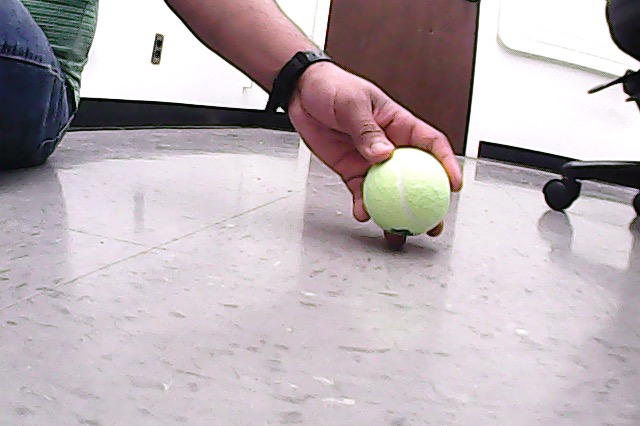ball: (360, 145, 454, 240)
